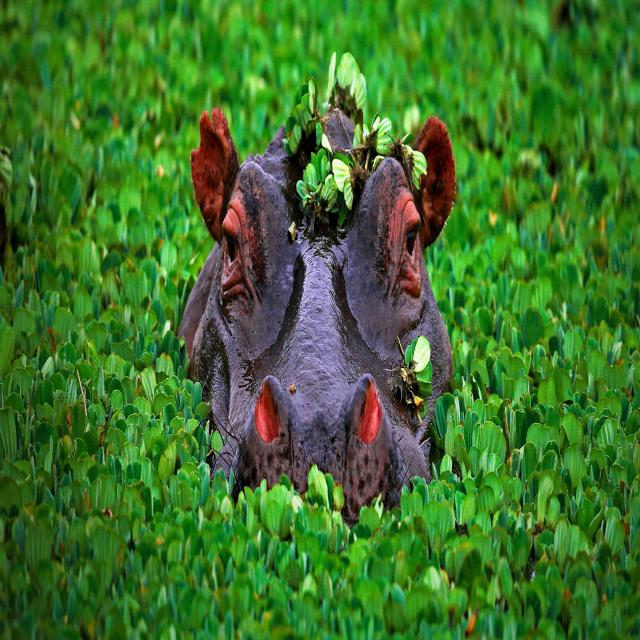hippopotamus: (179, 54, 456, 522)
